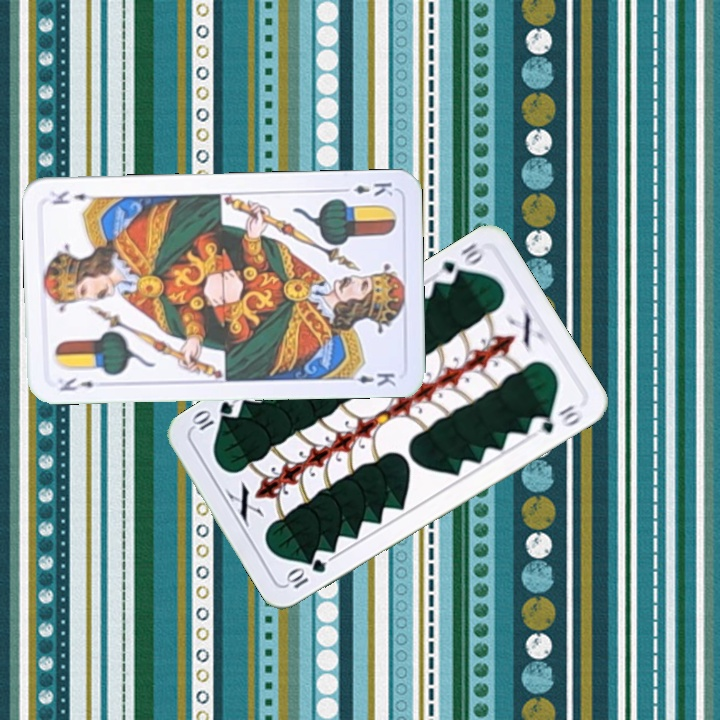EK: (336, 178, 396, 198), (56, 374, 97, 394)
G10: (431, 239, 488, 287), (282, 555, 329, 592)
